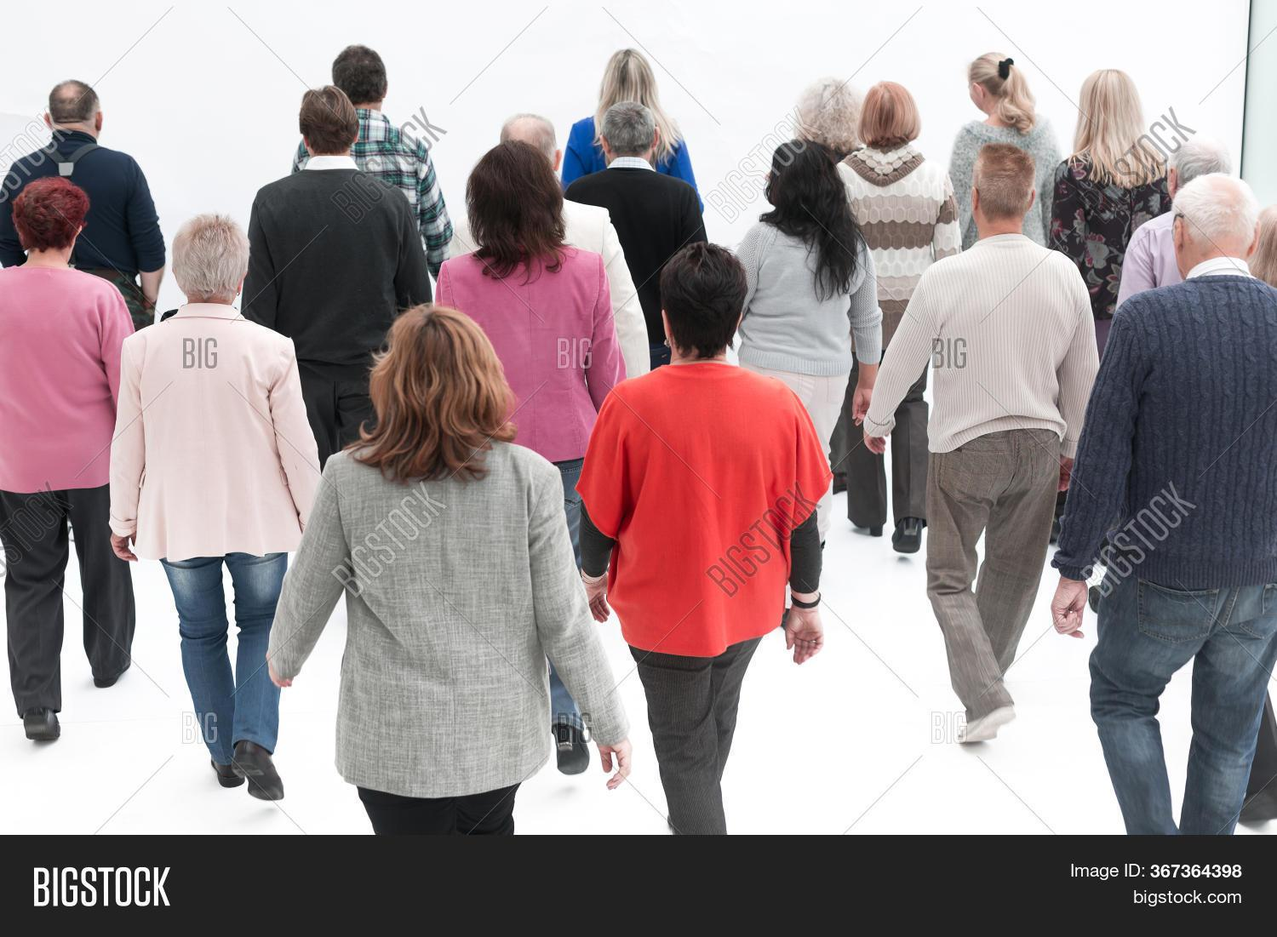jacket: (267, 427, 631, 801), (108, 299, 326, 562), (428, 242, 632, 466)
long sleeve shirt: (573, 361, 835, 657), (289, 105, 451, 285), (1046, 147, 1173, 312), (1114, 207, 1189, 322)
sweater: (1052, 279, 1277, 581), (861, 232, 1103, 451), (239, 169, 435, 364), (0, 261, 136, 494), (559, 168, 709, 349), (0, 129, 172, 273), (732, 215, 886, 371)
trousers: (1086, 575, 1277, 837), (922, 429, 1064, 720), (1, 488, 134, 716), (155, 551, 292, 761), (624, 635, 765, 833), (734, 358, 852, 540), (845, 333, 934, 531), (287, 359, 387, 472), (355, 782, 525, 838)
